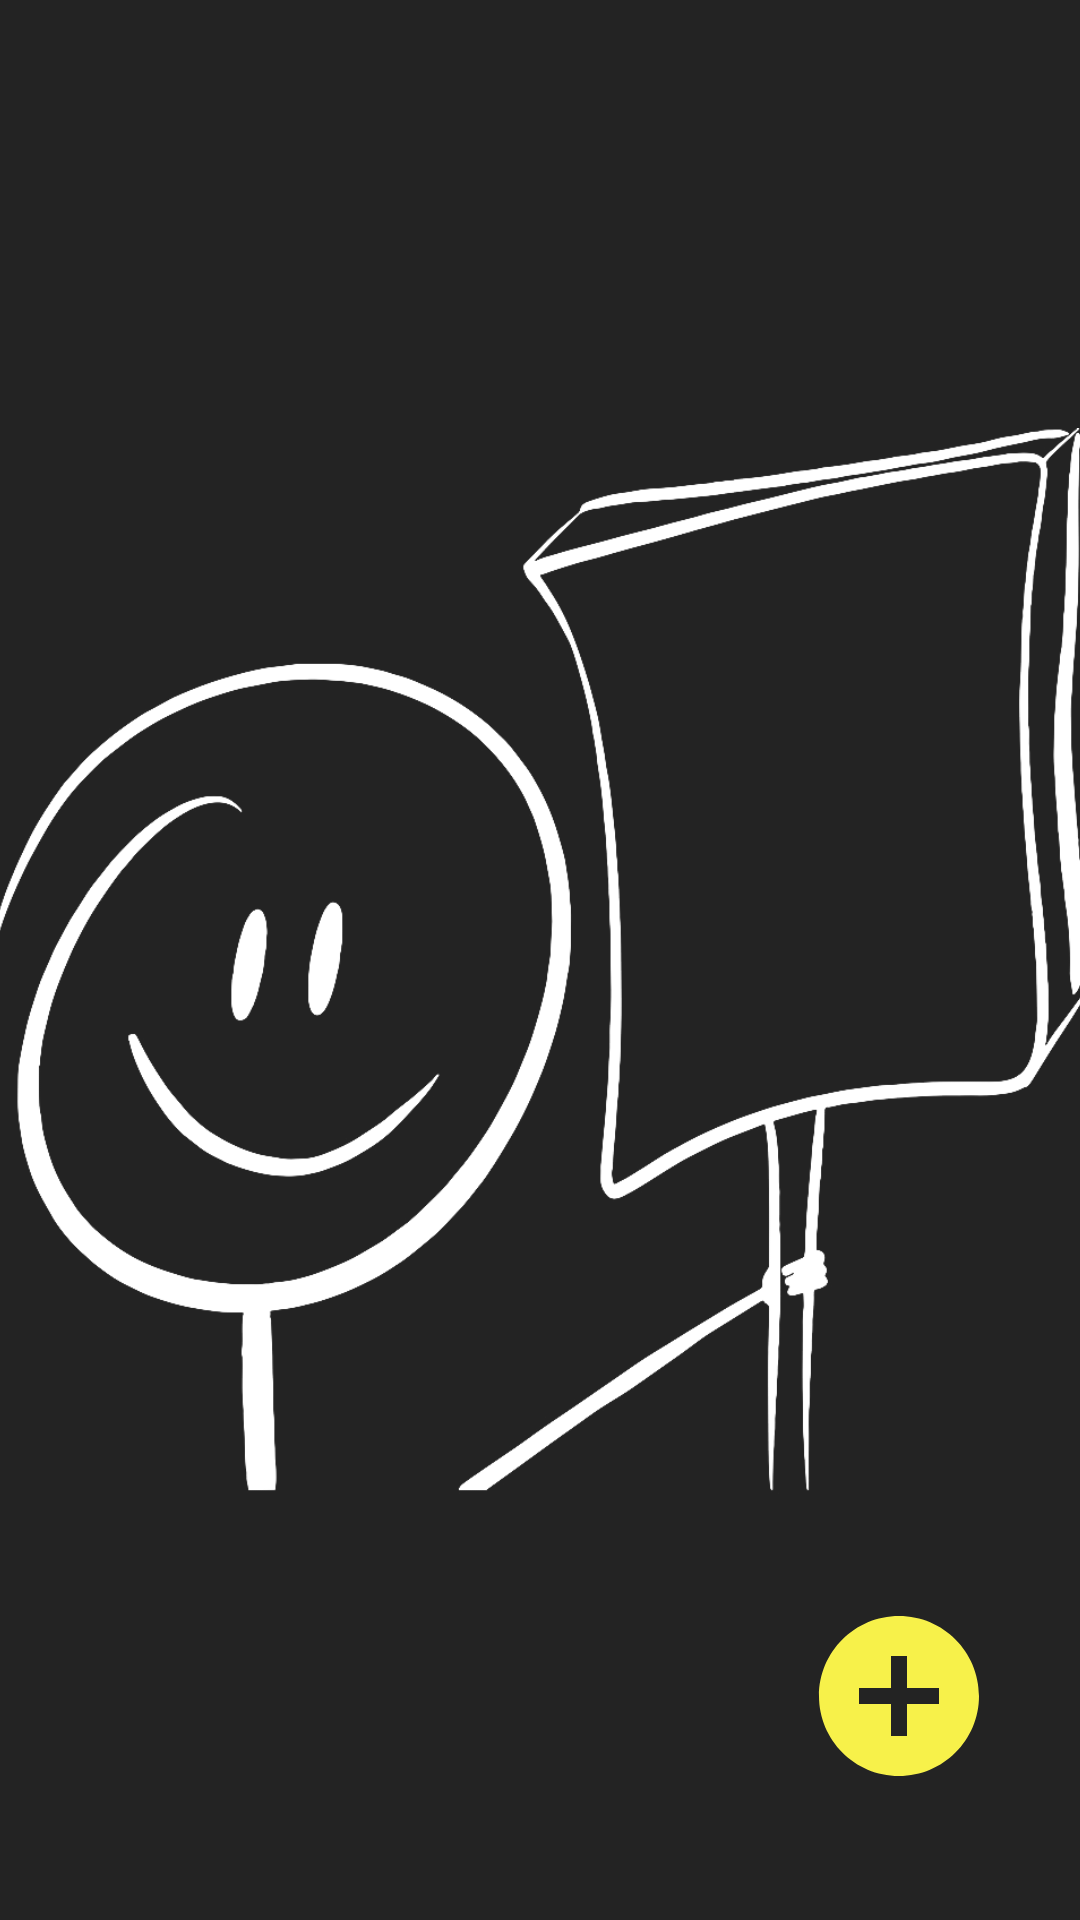

Icons on this 1080x1920 Android screen, each with the point to tap as (x=x, y=y):
add circle: (x=899, y=1696)
